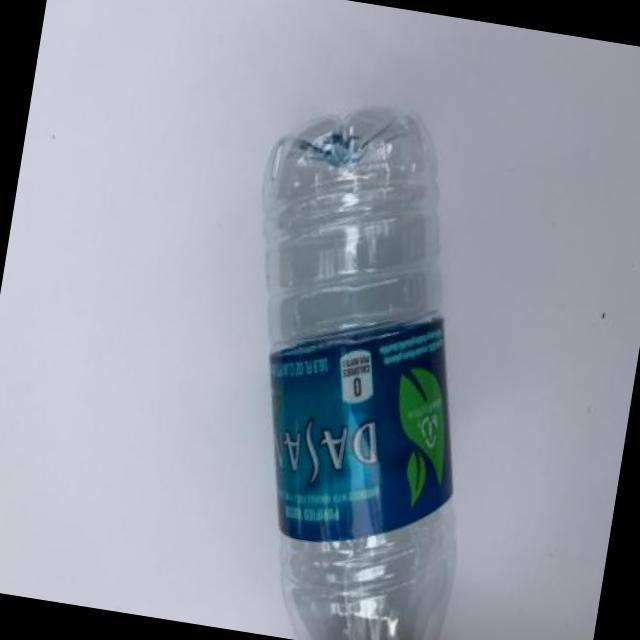Recycle: (194, 88, 528, 640)
